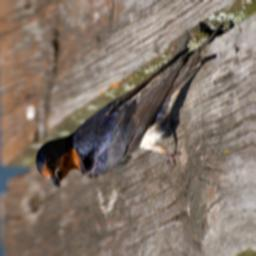Swallow: (33, 17, 228, 191)
